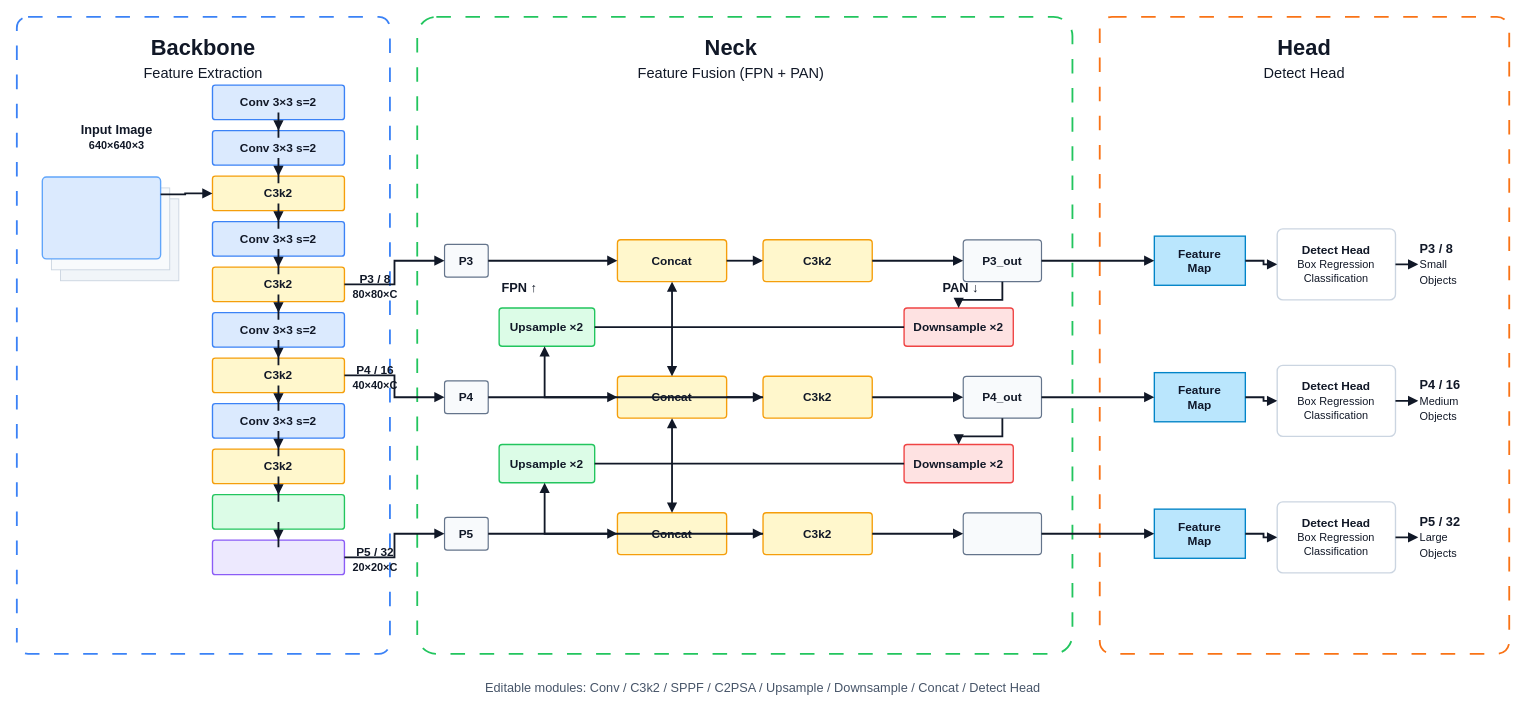
Image size: 1525x718. Some labels were removed from this diagram. Each missing label, with the box of its shape:
C2PSA: (211, 539, 345, 575)
Input 640×640×3: (41, 176, 161, 259)
P5_out: (962, 512, 1042, 555)
SPPF: (211, 493, 345, 529)
